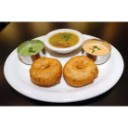vada: (64, 56, 99, 82), (31, 58, 61, 84)
